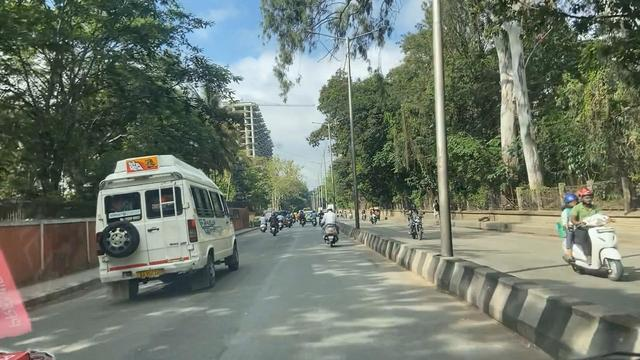HMV: (94, 162, 205, 299)
LMV: (321, 203, 340, 249)
